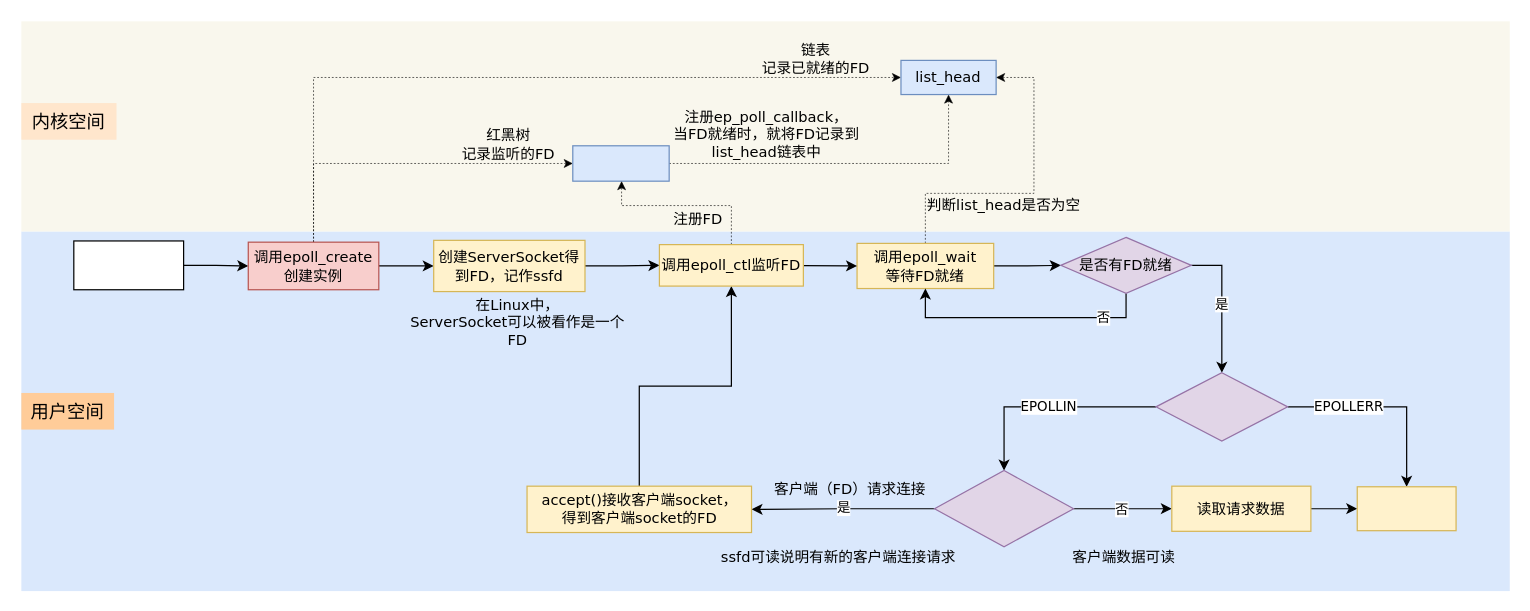
Some shapes in this 1530 by 611 pixel diagram are drawn without their labels. Each missing label, with the centre of its shape:
"rb_root" goes at (620,163).
"ssfd是否可读" goes at (1003,508).
"写出响应" goes at (1406,508).
"判断事件类型" goes at (1221,406).
"服务端 Redis" goes at (128,265).
